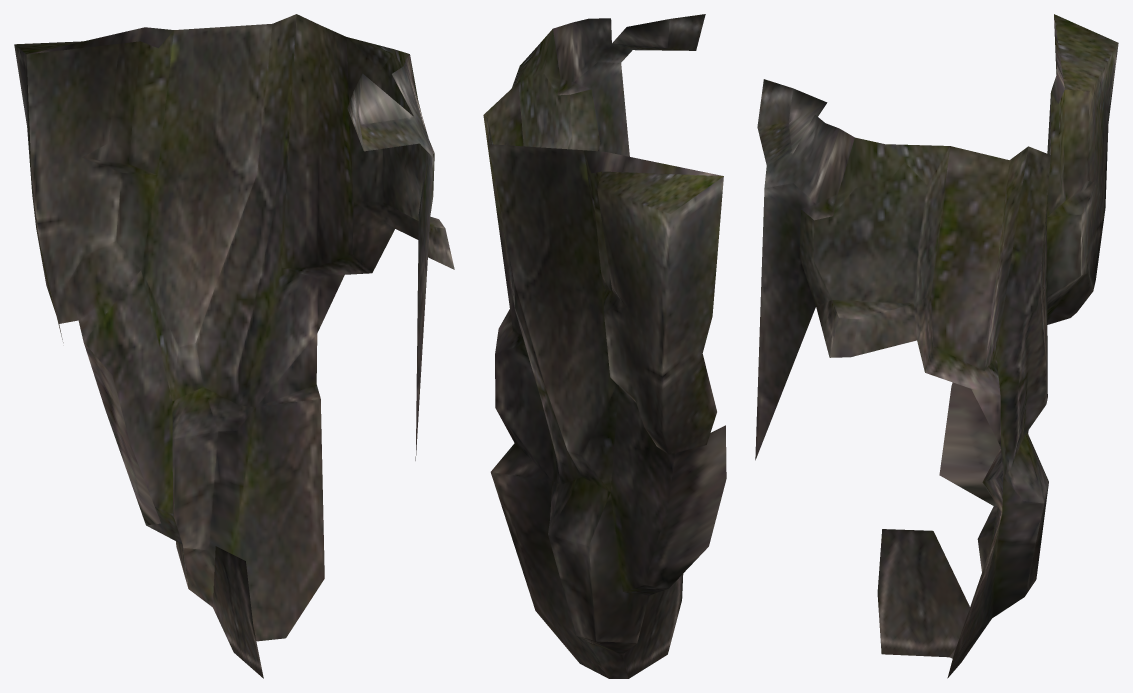
Rendered from S2_Build_XSC077_H3.FBX.
The picture shows the model from 3 angles, left to right: view 1: azimuth 30°, elevation 25°; view 2: azimuth 150°, elevation 25°; view 3: azimuth 270°, elevation 25°; orthographic projection. The views are drawn at different scales.
Visible parts, largest first — view 1: S2_Build_XSC077_H3; view 2: S2_Build_XSC077_H3; view 3: S2_Build_XSC077_H3.
Boxes of the visible parts, left/top/right/bottom form: S2_Build_XSC077_H3: left=14, top=14, right=454, bottom=678; S2_Build_XSC077_H3: left=483, top=14, right=726, bottom=678; S2_Build_XSC077_H3: left=755, top=14, right=1118, bottom=678.
Size of the model in its own units: 1503 by 2756 by 1546.
